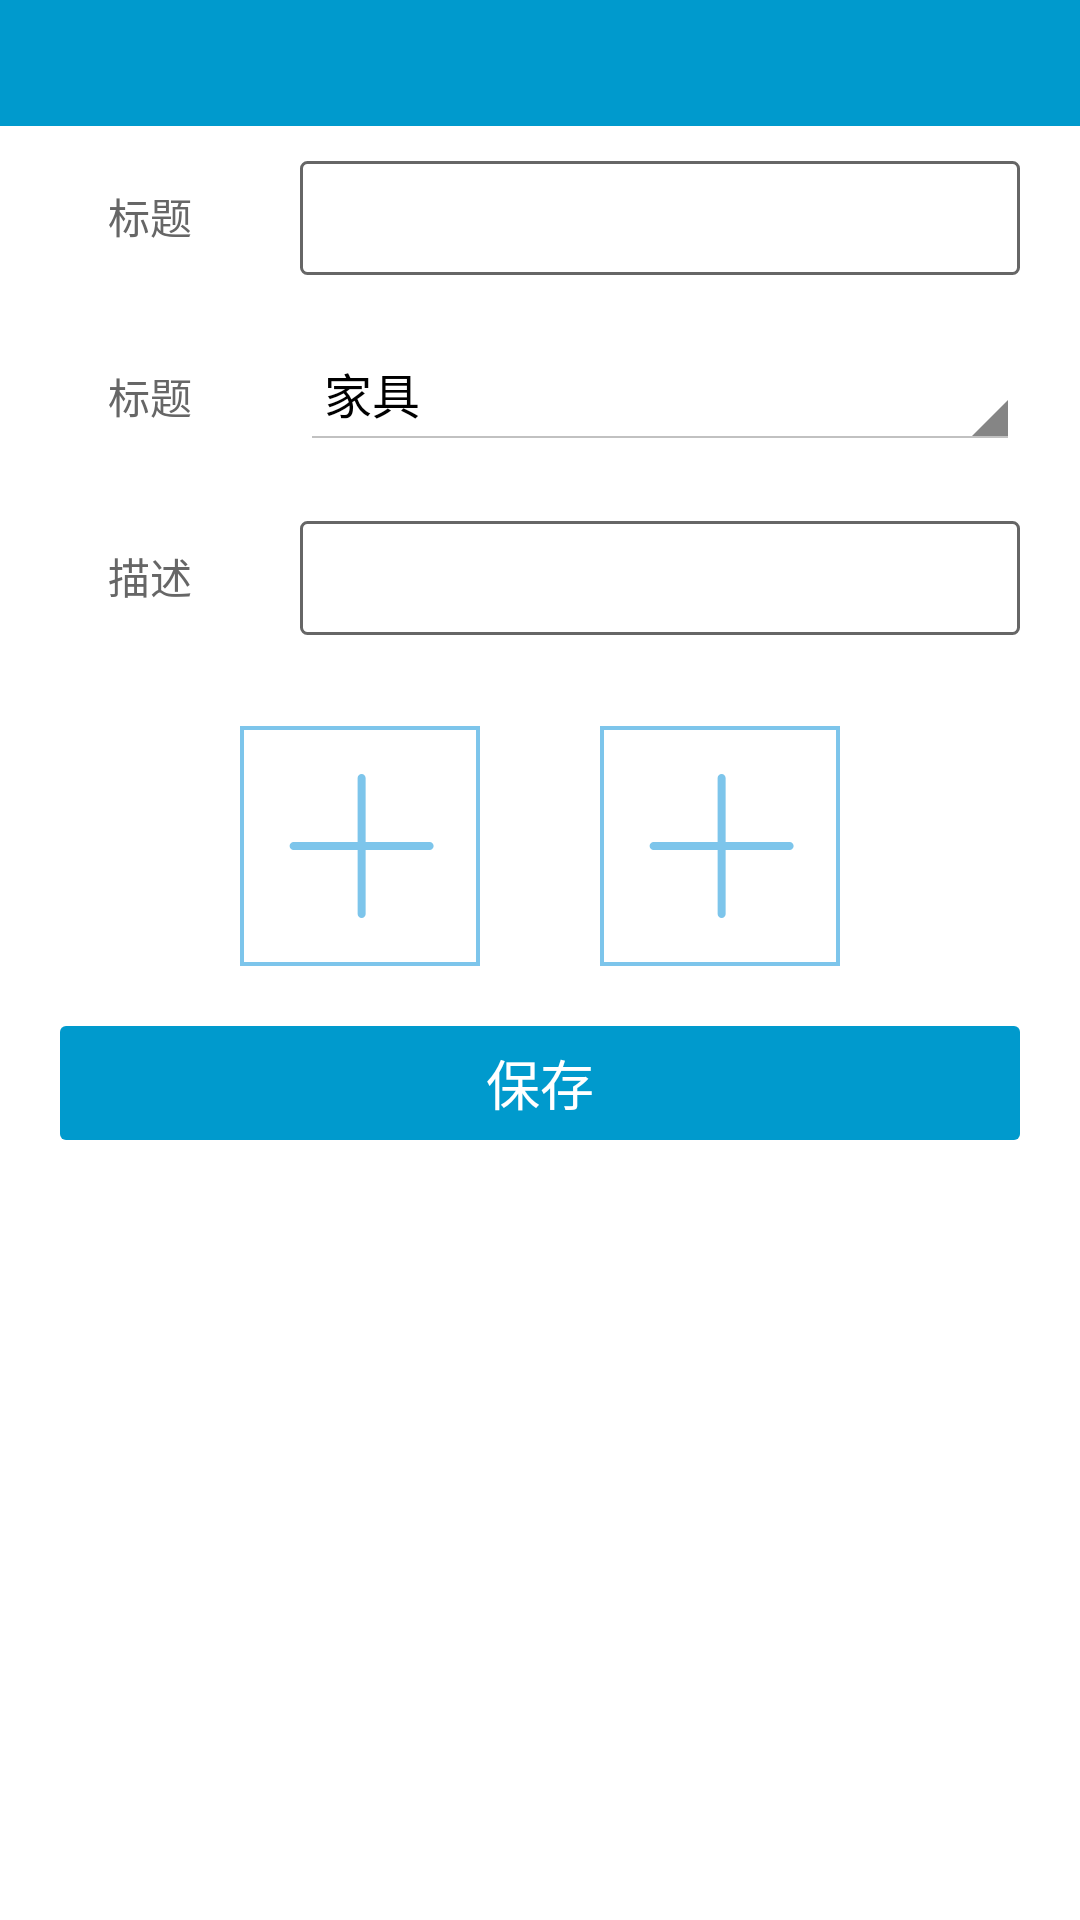

Where icons sit on this 1080w x 1920h app screen, as bbox=[x1, y1, x2, y2]:
upload: bbox=[240, 726, 480, 966], bbox=[600, 726, 840, 966]
